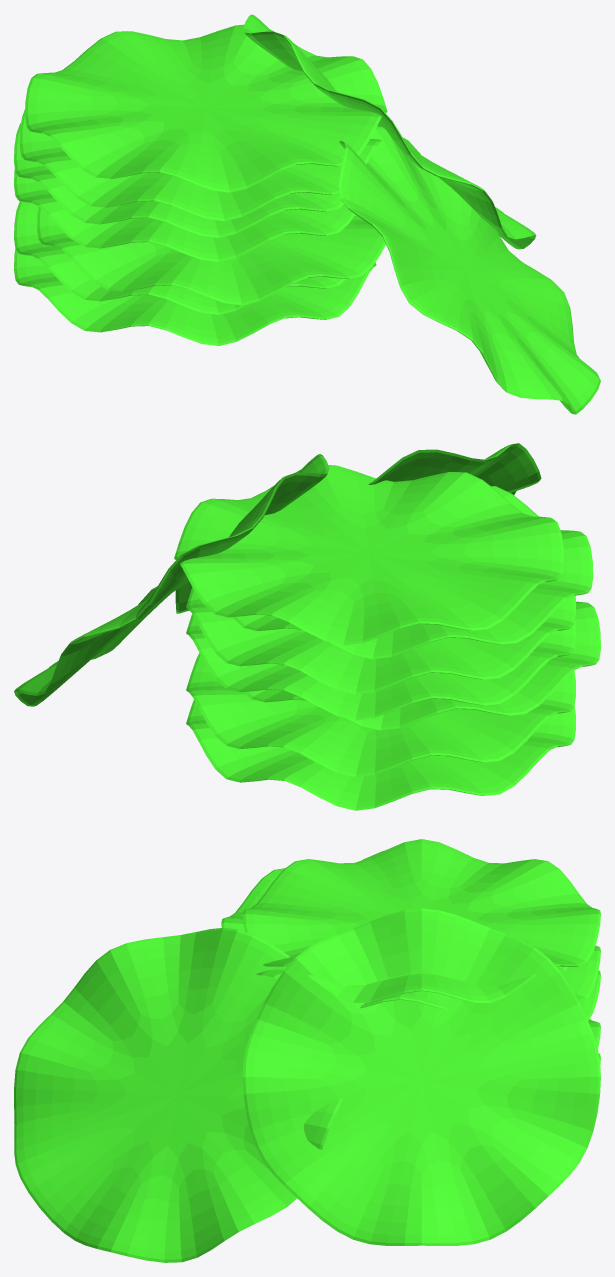
File: saladTable.fbx
3 views of the same model, one above another, from view 1: azimuth 30°, elevation 25°; view 2: azimuth 150°, elevation 25°; view 3: azimuth 270°, elevation 25° (orthographic). The views are drawn at different scales.
Parts seen in each view (by area): view 1: Cylinder.063; view 2: Cylinder.063; view 3: Cylinder.063.
Part boxes in pixels (x1,y1,x2,y2): Cylinder.063: (14,14,600,414); Cylinder.063: (14,443,600,810); Cylinder.063: (14,839,600,1262).
Bounding box in the file's own units: 29.72 × 16.62 × 32.43.
